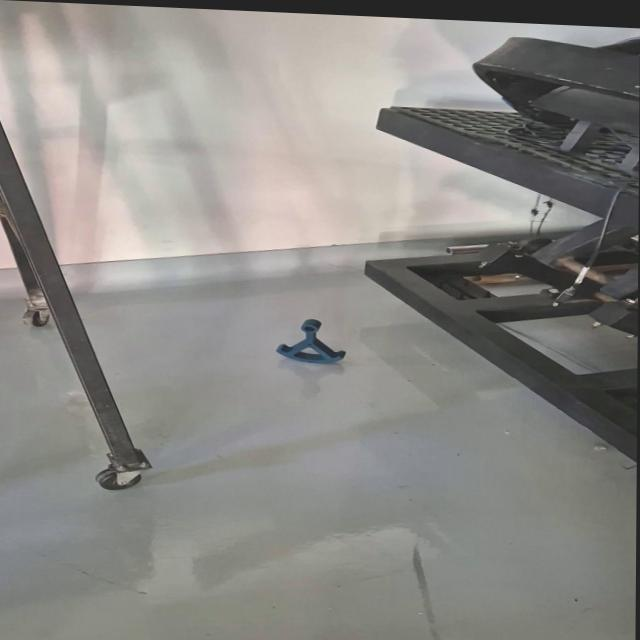haptic: (274, 317, 348, 366)
